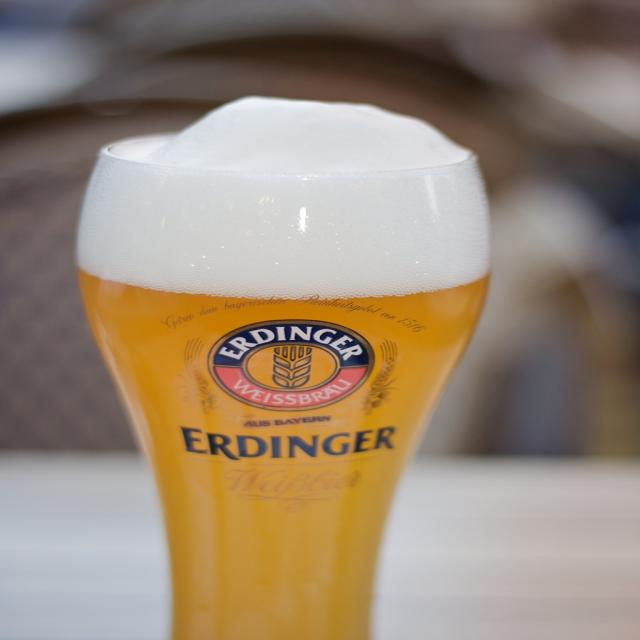erdinger: (161, 291, 436, 465)
